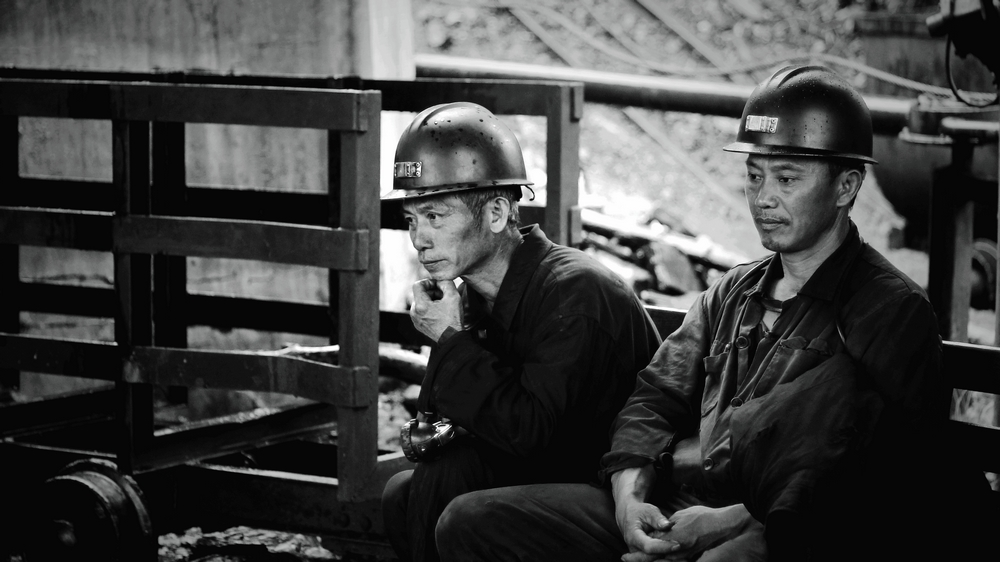helmet: (734, 57, 878, 260), (391, 99, 533, 284)
